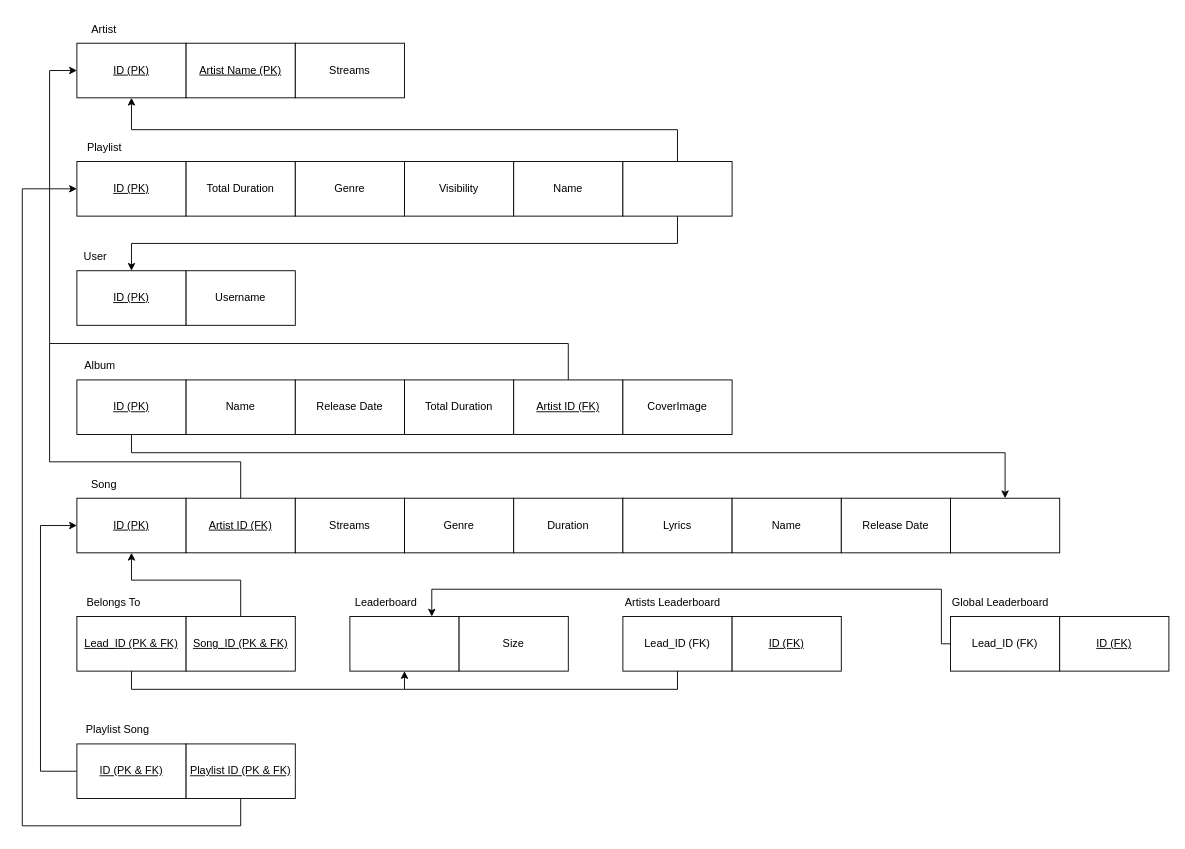
The diagram is 1185 pixels wide and 849 high, and some of its shapes have lost their labels. The centre of each missing label's shape, as x and y in pixels:
"Album ID (FK)" belongs at point 1005,525.
"Author ID (FK)" belongs at point 677,188.
"Lead_ID (PK)" belongs at point 404,643.
